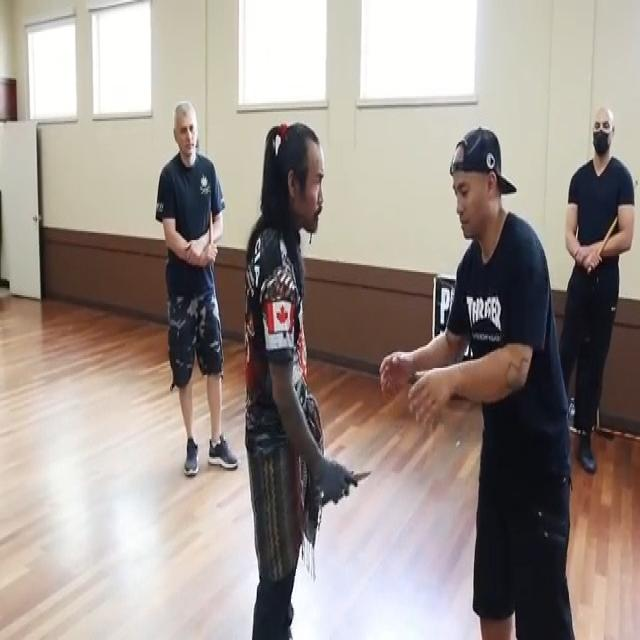Sharp-Object: (322, 468, 374, 502)
